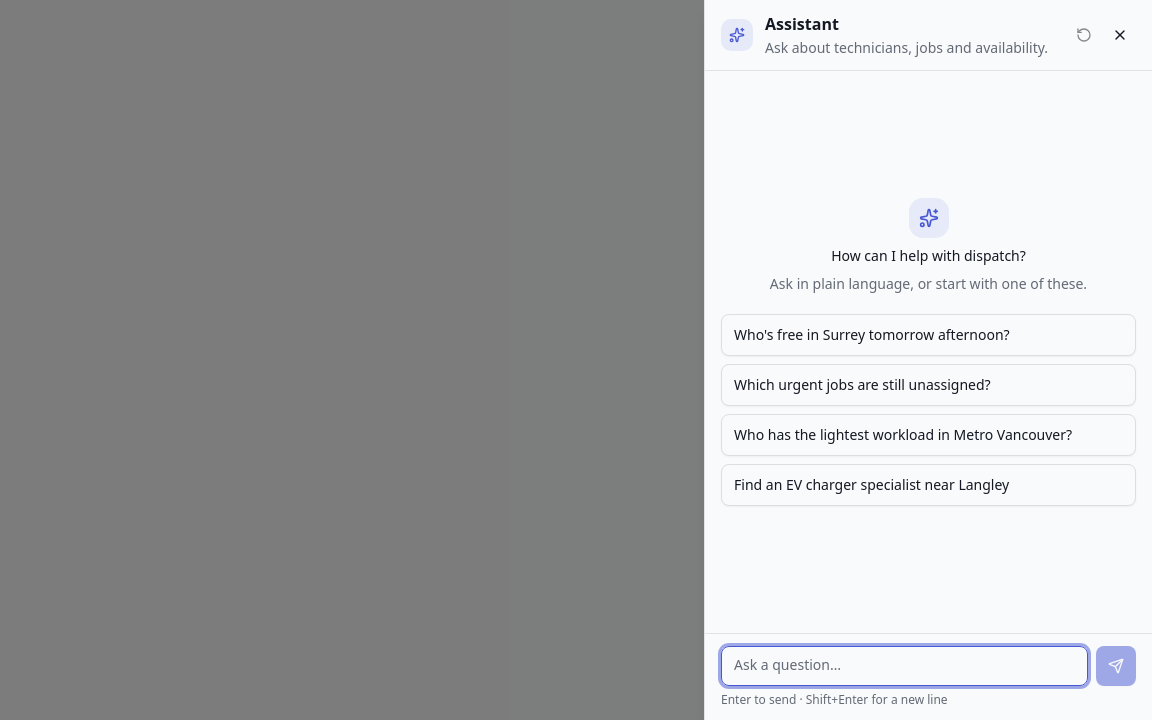
Scenario: AssistantPanel › clears the conversation with New conversation
Type "Hello" into the text box named "Message the assistant" at (904, 666), box [721, 646, 1088, 686]
Then press Enter
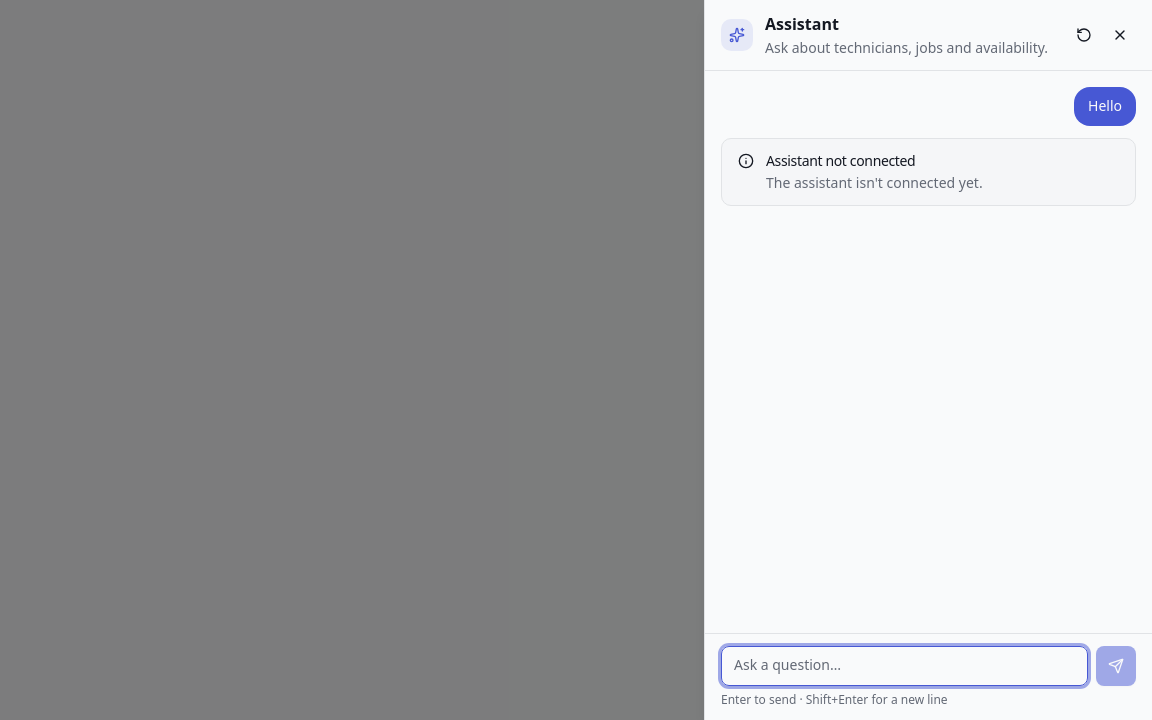
Expected: the message "Assistant not connected The assistant isn't connected yet." is shown, [721, 138, 1136, 206]
Click the button named "New conversation" at (1084, 35), box [1068, 19, 1100, 51]
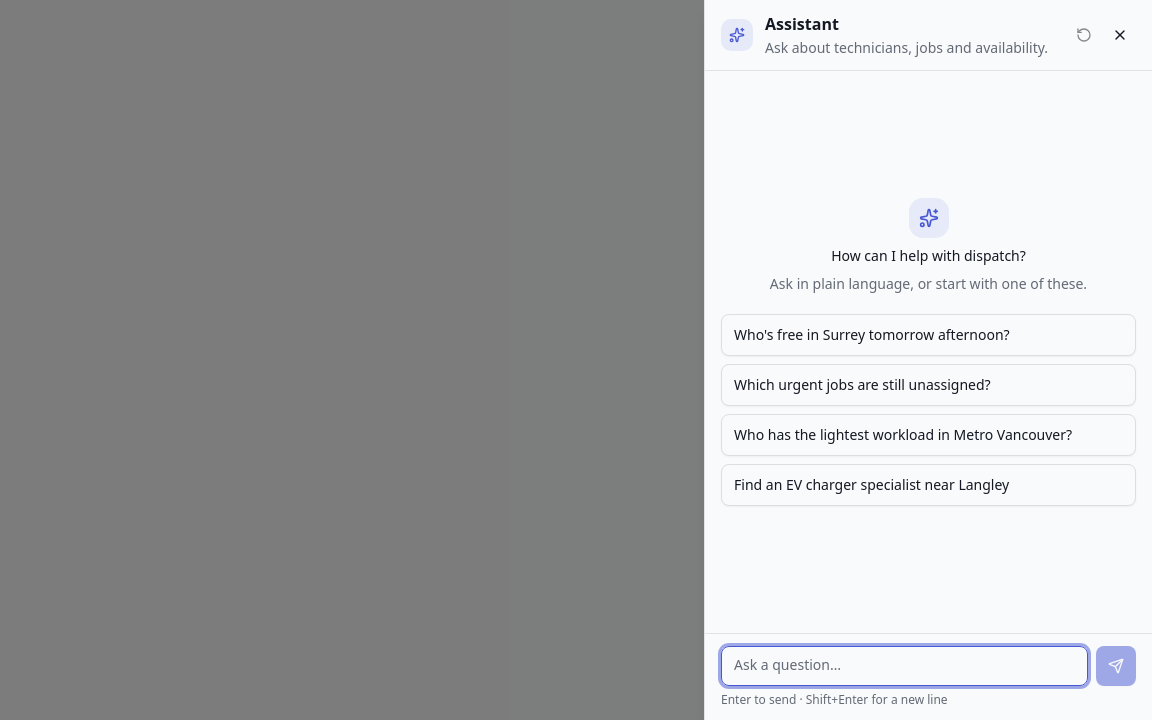
Expected: the text "Hello" is gone
Expected: the message "Assistant not connected The assistant isn't connected yet." is gone
Expected: the list named "Suggested questions" is shown, [721, 314, 1136, 506]
